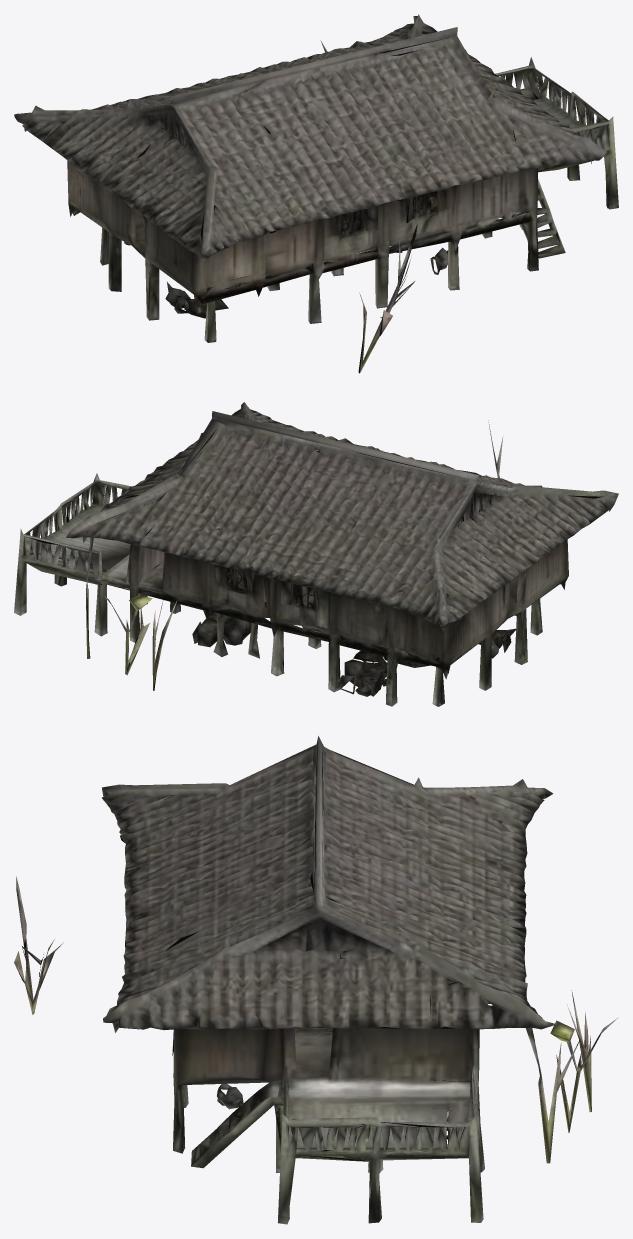
File: bq_stilt.bk.glb
3 views of the same model, one above another, from view 1: azimuth 30°, elevation 25°; view 2: azimuth 150°, elevation 25°; view 3: azimuth 270°, elevation 25° (orthographic). The views are drawn at different scales.
Parts seen in each view (by area): view 1: lo; view 2: lo; view 3: lo.
Boxes of the visible parts, bbox=[...] form: lo: bbox=[14, 14, 618, 373]; lo: bbox=[14, 402, 618, 706]; lo: bbox=[14, 736, 618, 1224].
Size of the model in its own units: 1.89 by 0.7538 by 1.7.
1 material, 1 textured.
